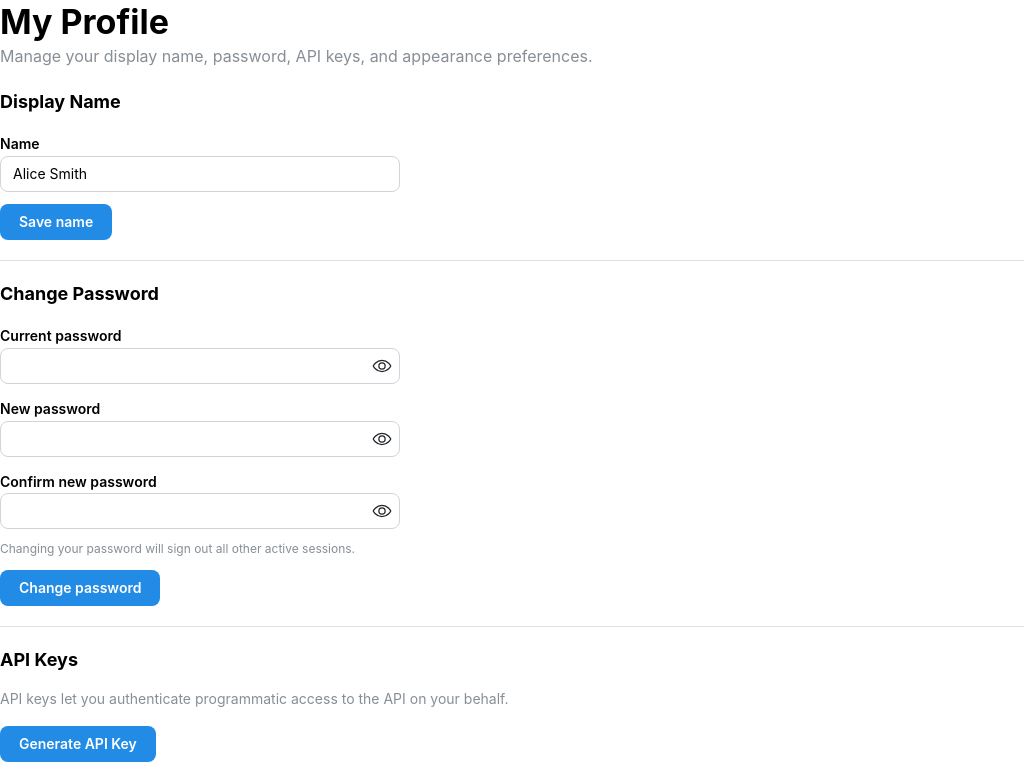
PM13-01-B — ProfilePage API Keys section › closing the raw key modal clears the key so it cannot be seen again
The image size is (1024, 768).
Generate a key
Click the button "Generate API Key": (78, 744) [0, 726, 156, 762]
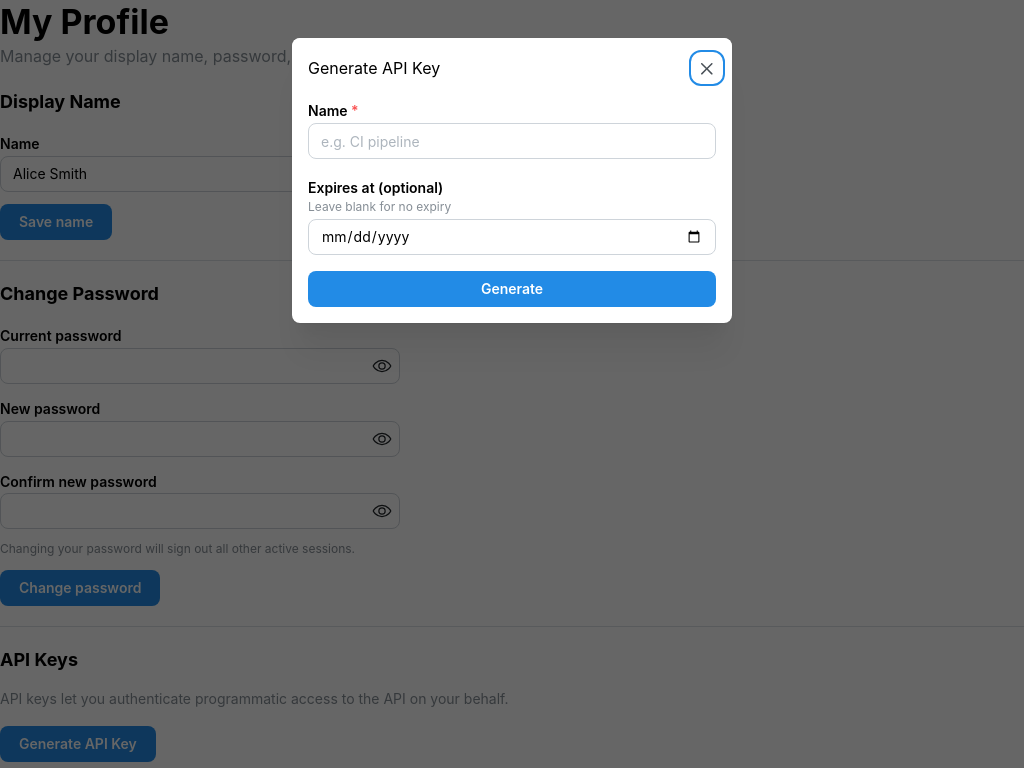
Check: the dialog is shown, box [292, 38, 732, 323]
In the field with test id "api-key-name-input": (512, 141) [308, 123, 716, 159], type "Ephemeral key"
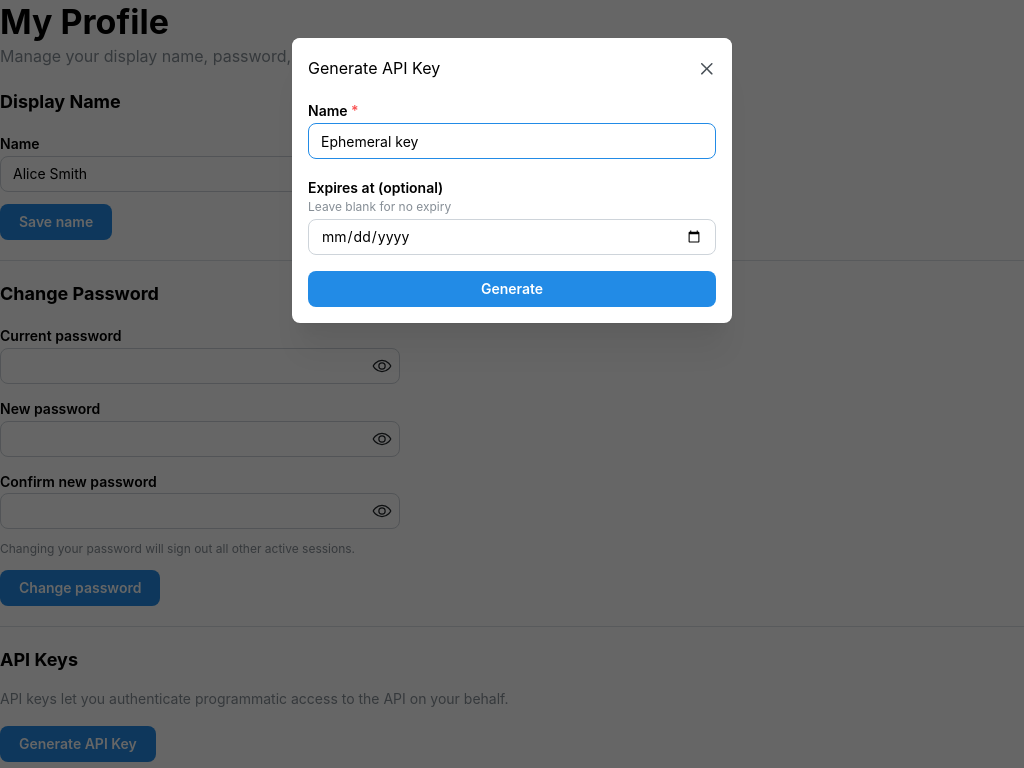
Click the button "Generate": (512, 289) [308, 271, 716, 307]
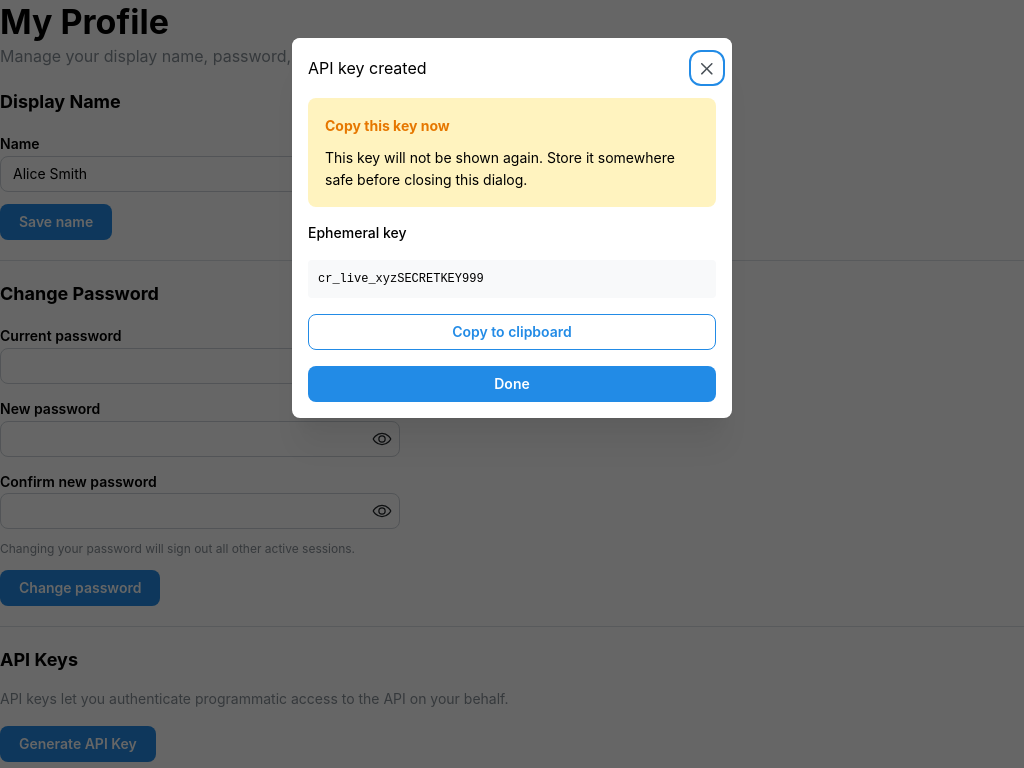
Check: the text "cr_live_xyzSECRETKEY999" is shown, box [308, 260, 716, 298]
Dismiss via Done
Click the button "Done": (512, 384) [308, 366, 716, 402]
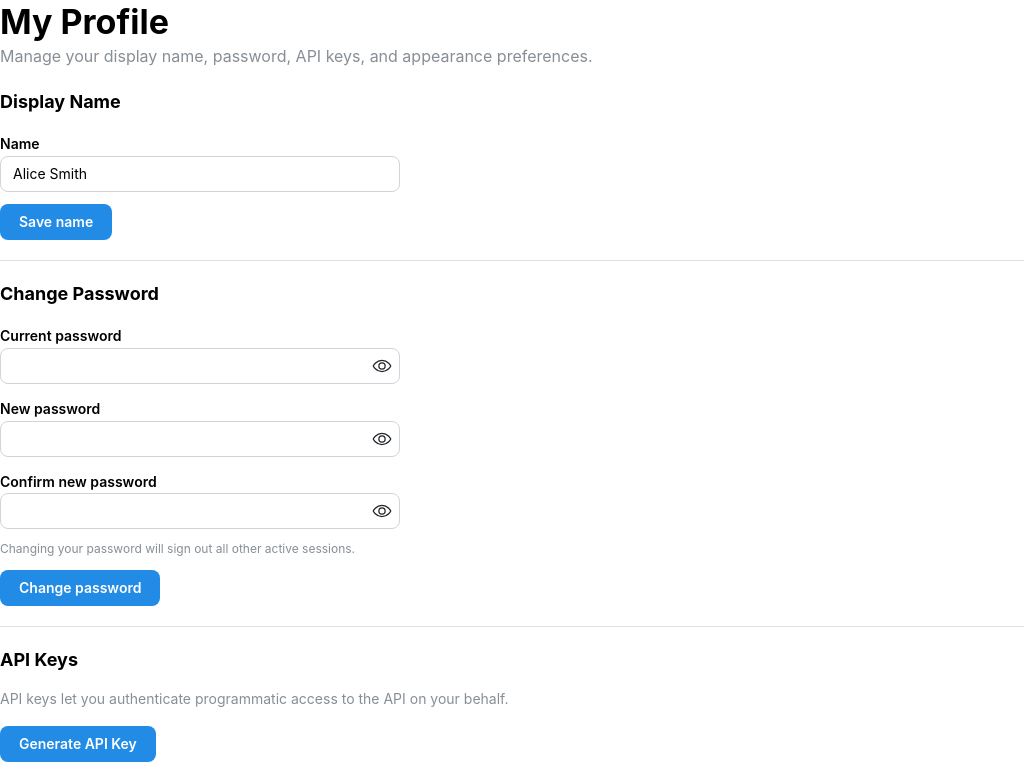
Check: the text "cr_live_xyzSECRETKEY999" is gone
